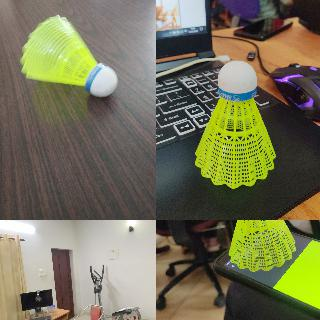shuttlecock: (197, 61, 275, 187), (19, 15, 117, 97), (227, 220, 297, 273)
